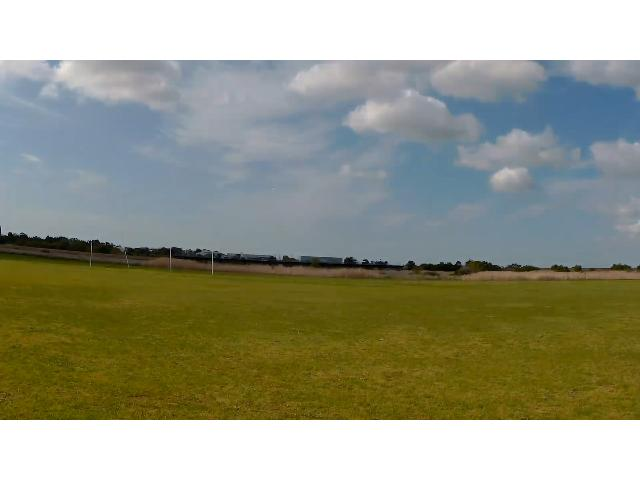Anti-Drone: (266, 178, 284, 196)
